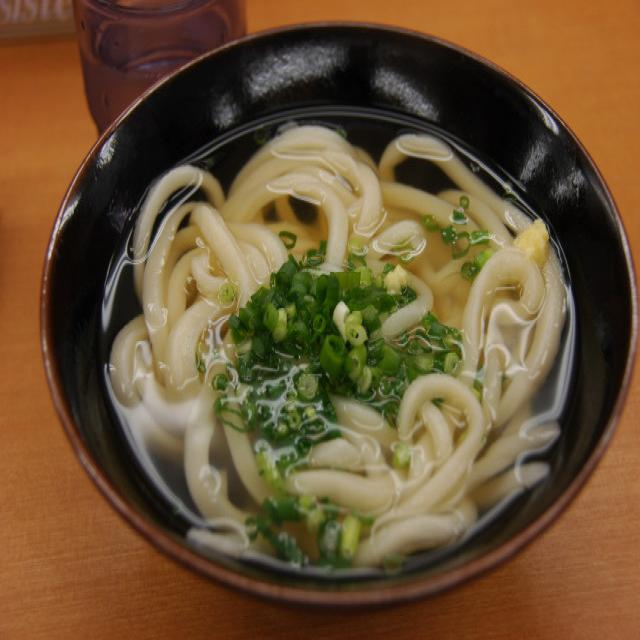面条主食: (36, 15, 640, 611)
